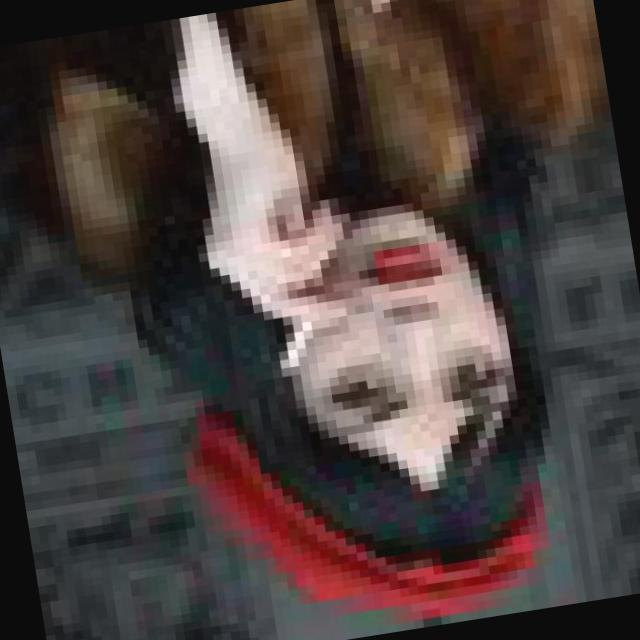smoke: (233, 285, 341, 408)
